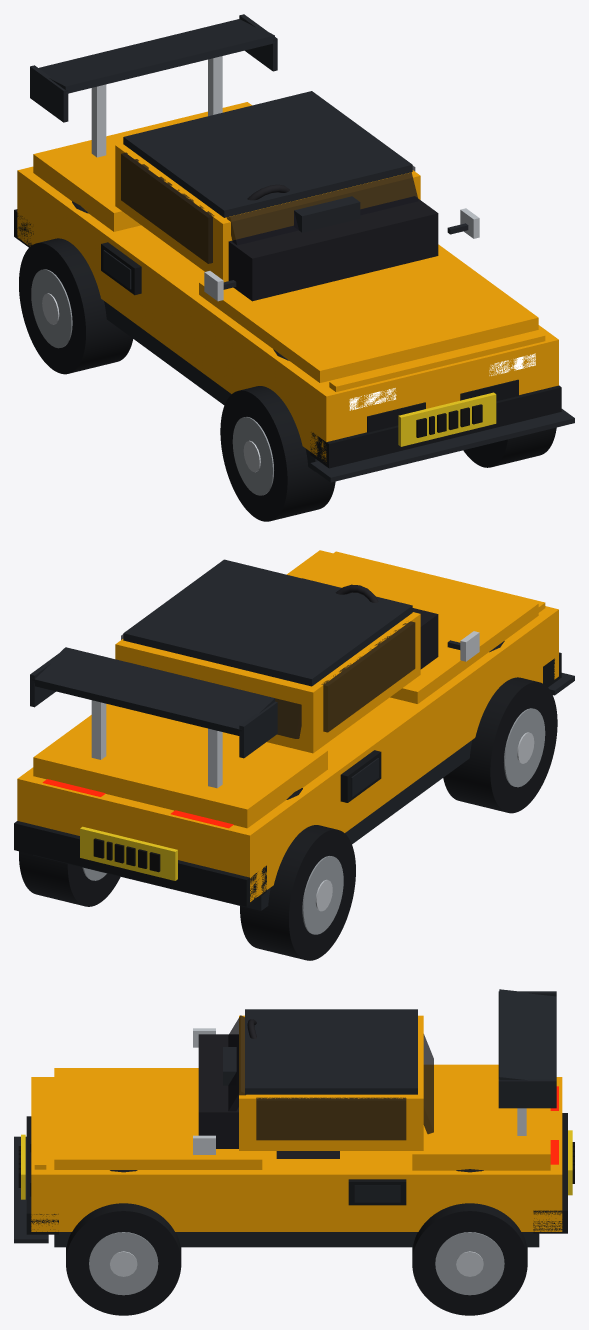
Rendered from vehicle_sports.glb.
3 views of the same model, one above another, from view 1: azimuth 30°, elevation 25°; view 2: azimuth 150°, elevation 25°; view 3: azimuth 270°, elevation 25° (orthographic). The views are drawn at different scales.
Parts seen in each view (by area): view 1: chassis, wheel_FL, wheel_RL, wheel_FR; view 2: chassis, wheel_RL, wheel_FL, wheel_RR, mirror_left; view 3: chassis, wheel_RR, wheel_FR, mirror_right.
Part boxes in pixels (<box>): chassis: <box>14,14,574,482</box>; wheel_FL: <box>220,386,335,521</box>; wheel_RL: <box>19,238,132,374</box>; wheel_FR: <box>463,427,556,467</box>; chassis: <box>14,550,574,910</box>; wheel_RL: <box>240,825,355,960</box>; wheel_FL: <box>443,677,557,813</box>; wheel_RR: <box>19,851,120,906</box>; mirror_left: <box>447,631,479,661</box>; chassis: <box>14,989,574,1247</box>; wheel_RR: <box>412,1203,527,1315</box>; wheel_FR: <box>66,1203,181,1315</box>; mirror_right: <box>193,1135,215,1154</box>.
Size of the model in its own units: 2.36 by 2.16 by 4.86.
